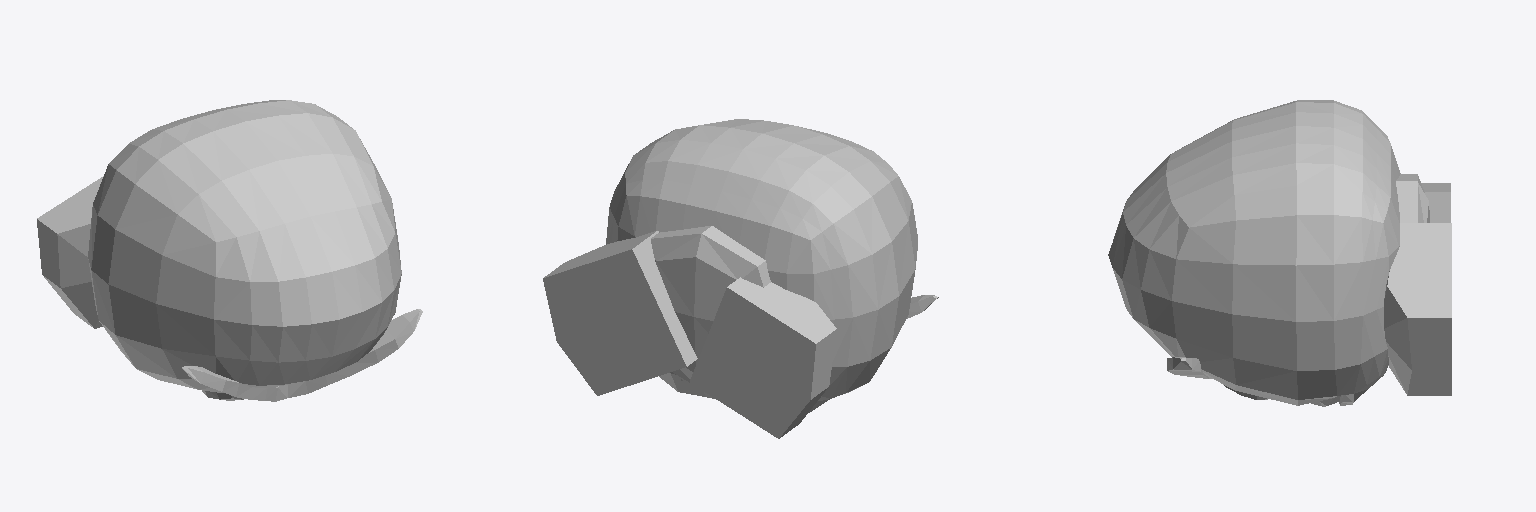
File: goomba.obj
3 views of the same model, side by side, from view 1: azimuth 30°, elevation 25°; view 2: azimuth 150°, elevation 25°; view 3: azimuth 270°, elevation 25° (orthographic).
Visible parts, largest first — view 1: Goomba_Cube, Foot_Cube.011, Eyes_Goomba_Cube.007; view 2: Goomba_Cube, Foot_Cube.011, Body_Goomba_Cube.008; view 3: Goomba_Cube, Foot_Cube.011, Body_Goomba_Cube.008, Eyes_Goomba_Cube.007.
Boxes of the visible parts, box(x1,y1,x2,y2) form: Goomba_Cube: box(88, 100, 401, 392); Foot_Cube.011: box(37, 176, 103, 328); Eyes_Goomba_Cube.007: box(182, 309, 422, 401); Goomba_Cube: box(606, 119, 917, 412); Foot_Cube.011: box(543, 230, 836, 438); Body_Goomba_Cube.008: box(651, 226, 770, 382); Goomba_Cube: box(1108, 100, 1400, 406); Foot_Cube.011: box(1384, 183, 1451, 395); Body_Goomba_Cube.008: box(1396, 174, 1429, 222); Eyes_Goomba_Cube.007: box(1167, 357, 1267, 399).
Bounding box in the file's own units: 5.08 × 4.49 × 5.42.